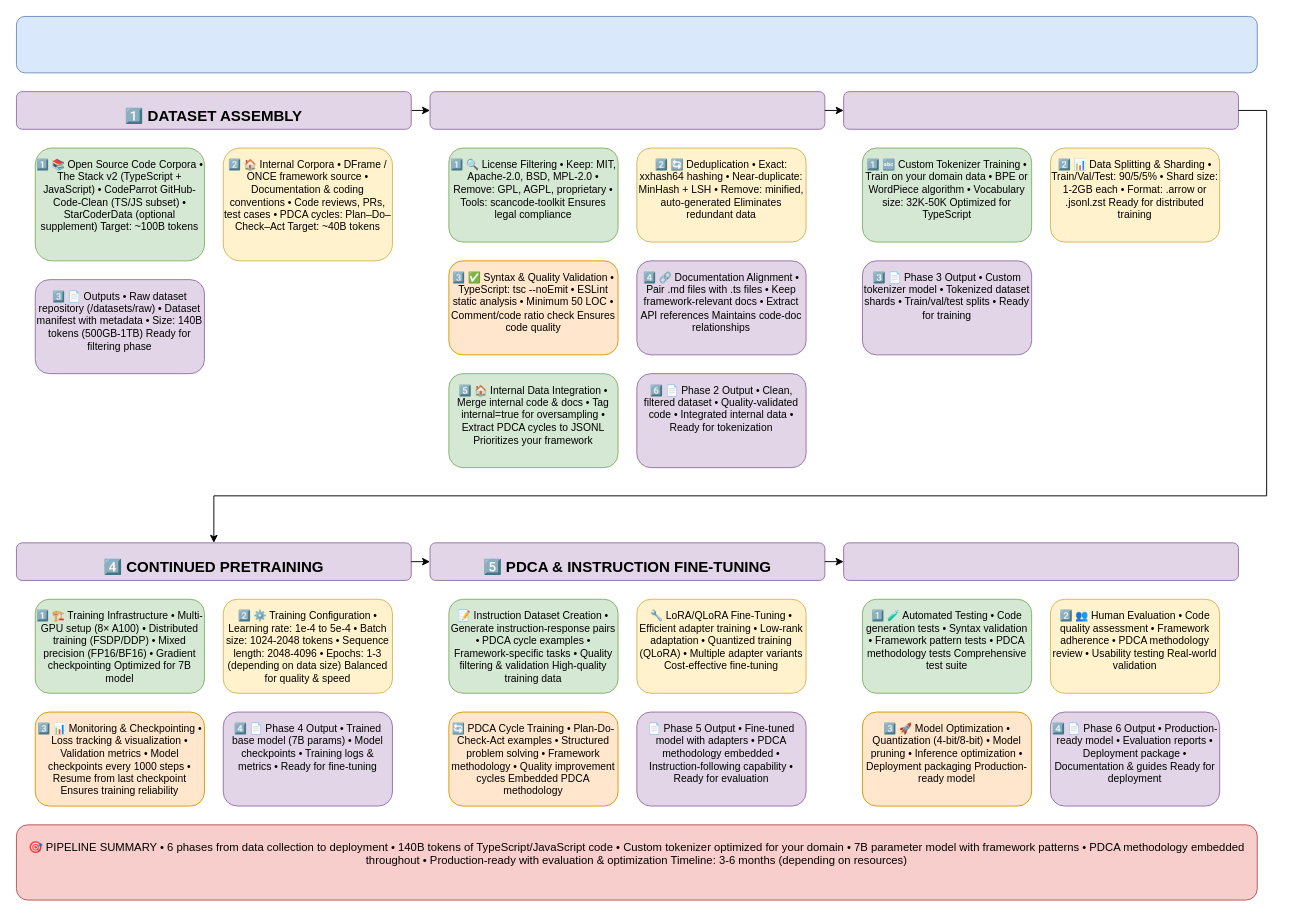
The diagram is 1291 pixels wide and 917 high, and some of its shapes have lost their labels. The centre of each missing label's shape, as x and y in pixels:
2️⃣ DATA FILTERING & INTEGRATION: point 627,110
3️⃣ TOKENIZATION & SHARDING: point 1040,110
6️⃣ EVALUATION & DEPLOYMENT: point 1040,561
🧩 7B LLM Development Pipeline: point 636,44
